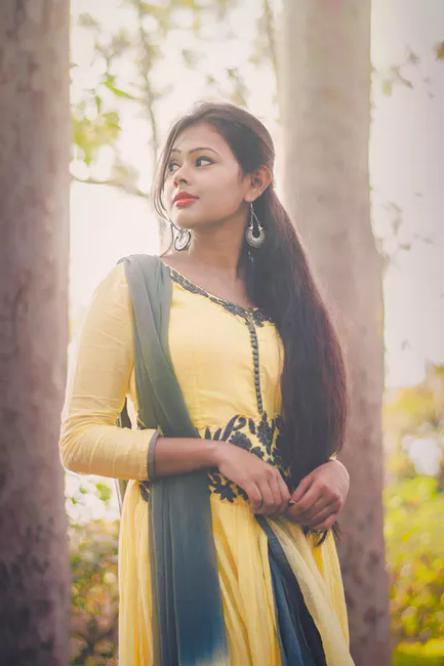face: (168, 123, 235, 225)
